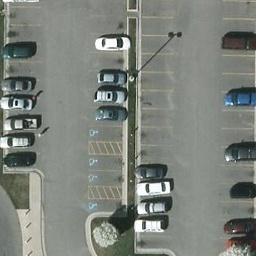car: (95, 33, 130, 53), (2, 113, 37, 133), (1, 130, 36, 150), (1, 149, 36, 169), (94, 105, 129, 125), (92, 85, 127, 105), (92, 67, 127, 87), (1, 42, 35, 62), (1, 72, 35, 92), (1, 93, 35, 113), (137, 180, 171, 195), (136, 199, 170, 214), (133, 217, 167, 232), (222, 145, 256, 160), (222, 90, 256, 105), (222, 35, 256, 50), (222, 217, 256, 232), (134, 164, 164, 179)
